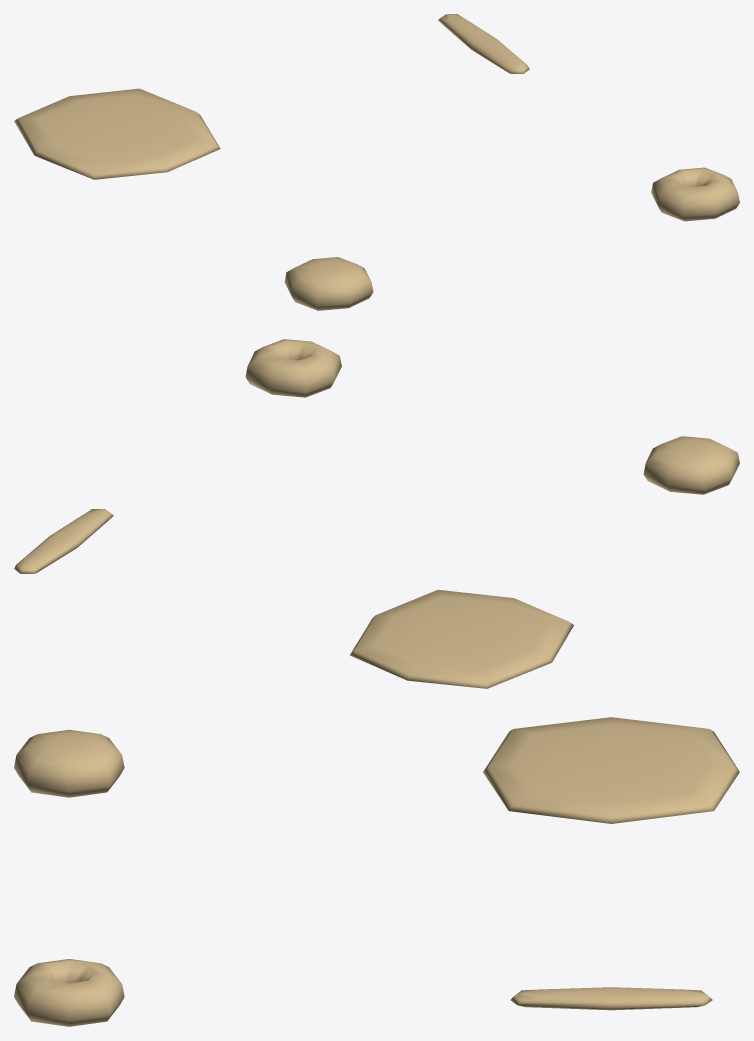
Rendered from dough.fbx.
3 renders of one model, top to bottom at view 1: azimuth 30°, elevation 25°; view 2: azimuth 150°, elevation 25°; view 3: azimuth 270°, elevation 25°, orthographic. The views are drawn at different scales.
Parts seen in each view (by area): view 1: DoughFlat, DoughRound, DoughDonut, DoughStrip; view 2: DoughFlat, DoughDonut, DoughRound, DoughStrip; view 3: DoughFlat, DoughDonut, DoughRound, DoughStrip.
Part boxes in pixels (box(x1,y1,x2,y2)): DoughFlat: box(14, 88, 220, 179); DoughRound: box(284, 257, 373, 310); DoughDonut: box(651, 167, 739, 221); DoughStrip: box(438, 14, 529, 73); DoughFlat: box(350, 589, 573, 688); DoughDonut: box(245, 339, 341, 397); DoughRound: box(643, 436, 739, 494); DoughStrip: box(14, 509, 113, 573); DoughFlat: box(483, 717, 739, 823); DoughDonut: box(14, 959, 124, 1026); DoughRound: box(14, 729, 124, 797); DoughStrip: box(510, 987, 712, 1010).
Bounding box in the file's own units: 1.33 × 0.0693 × 1.34.
